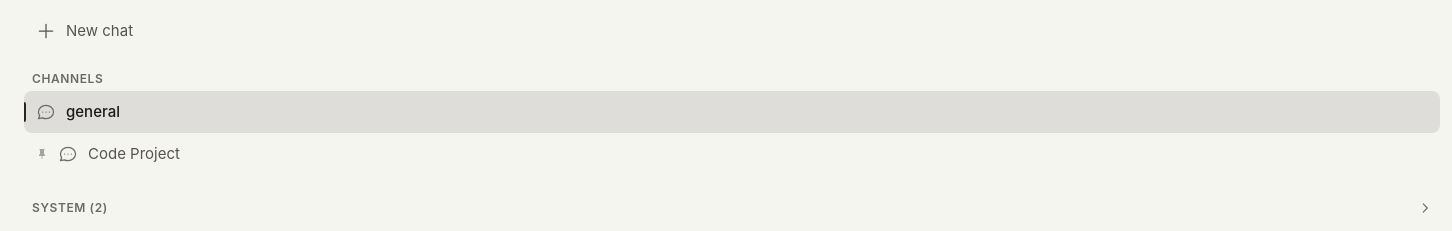
Test case: context menu › shows 'Unpin' for pinned session
Right-click the button "Code Project": [134, 154] box [24,133,1440,176]
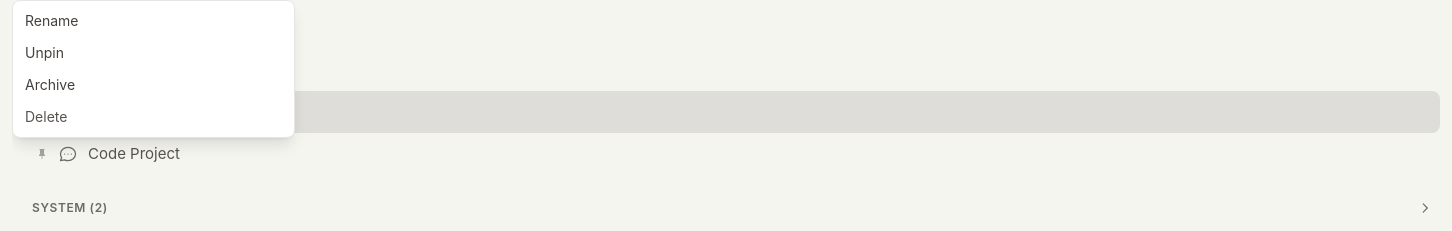
Expected: the button "Unpin" is shown, [13,37,294,69]
